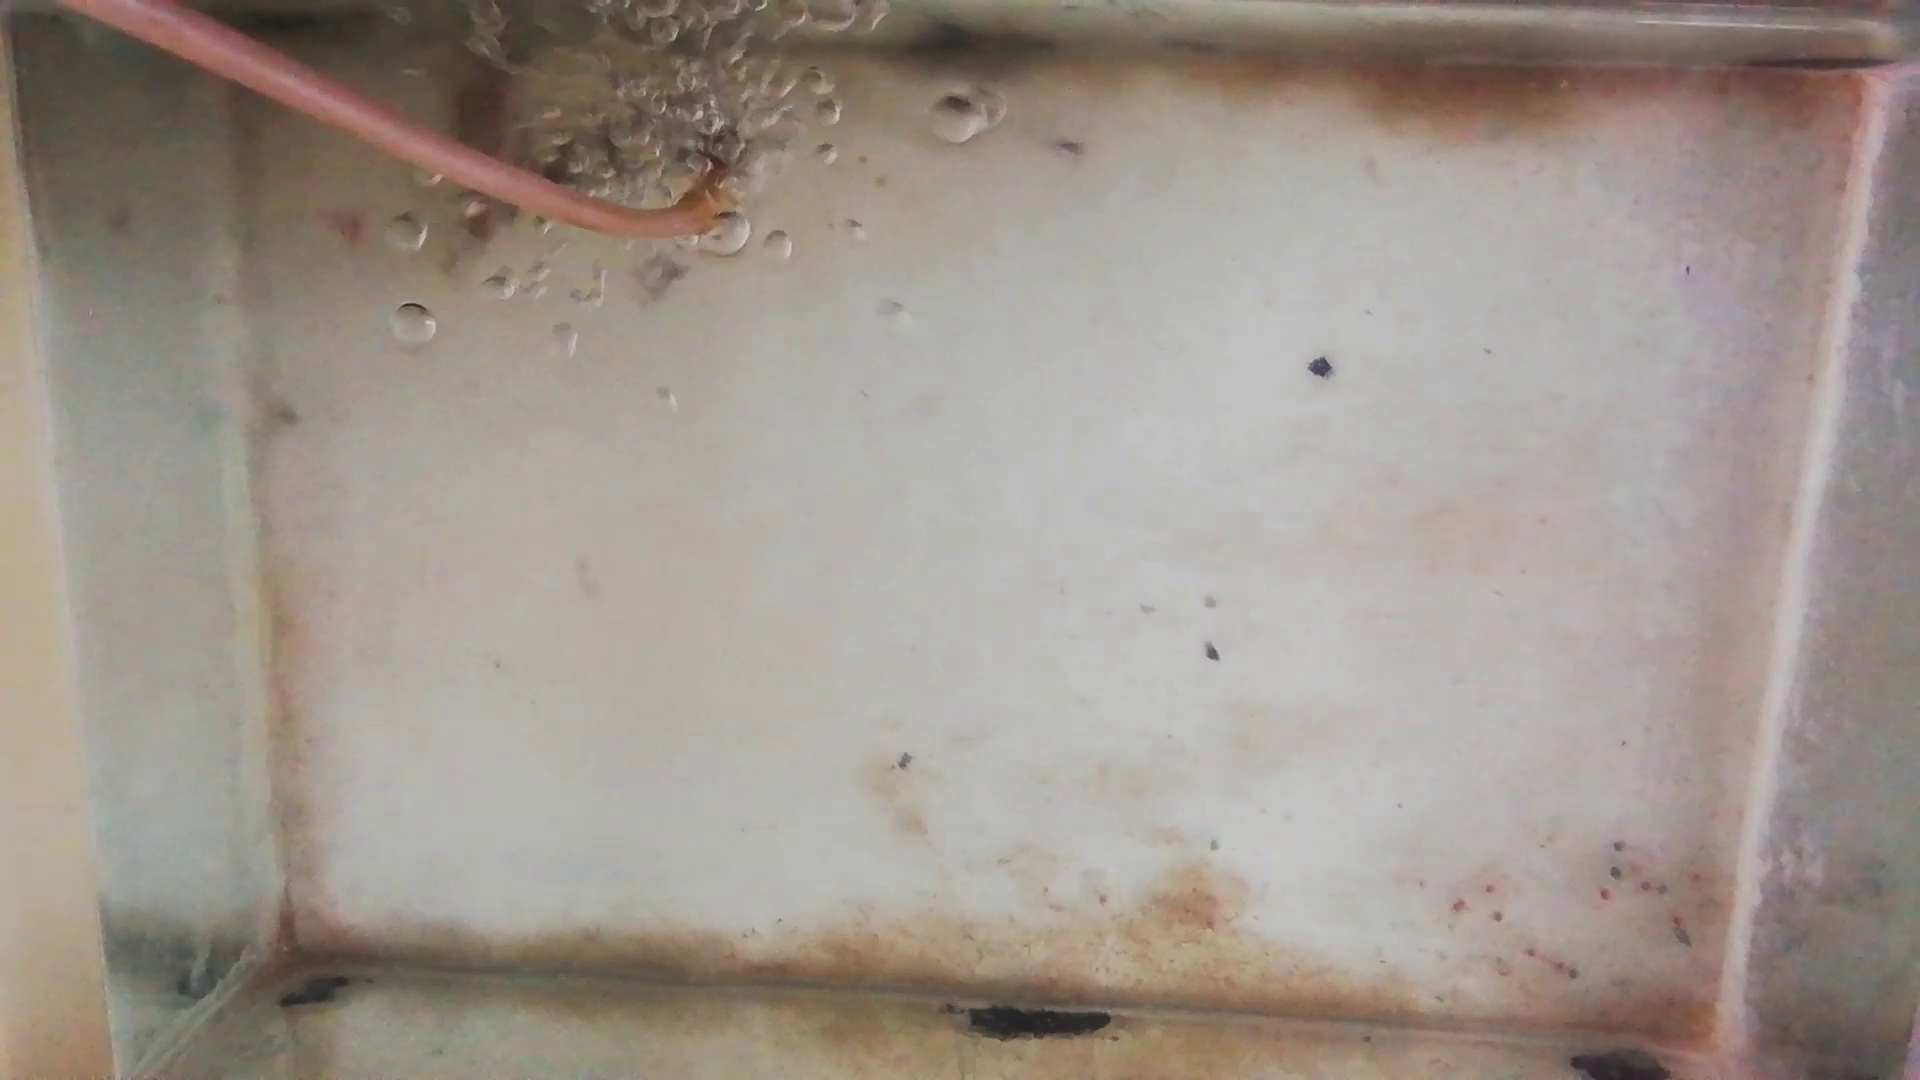fish: (527, 133, 655, 193), (444, 29, 498, 167)
